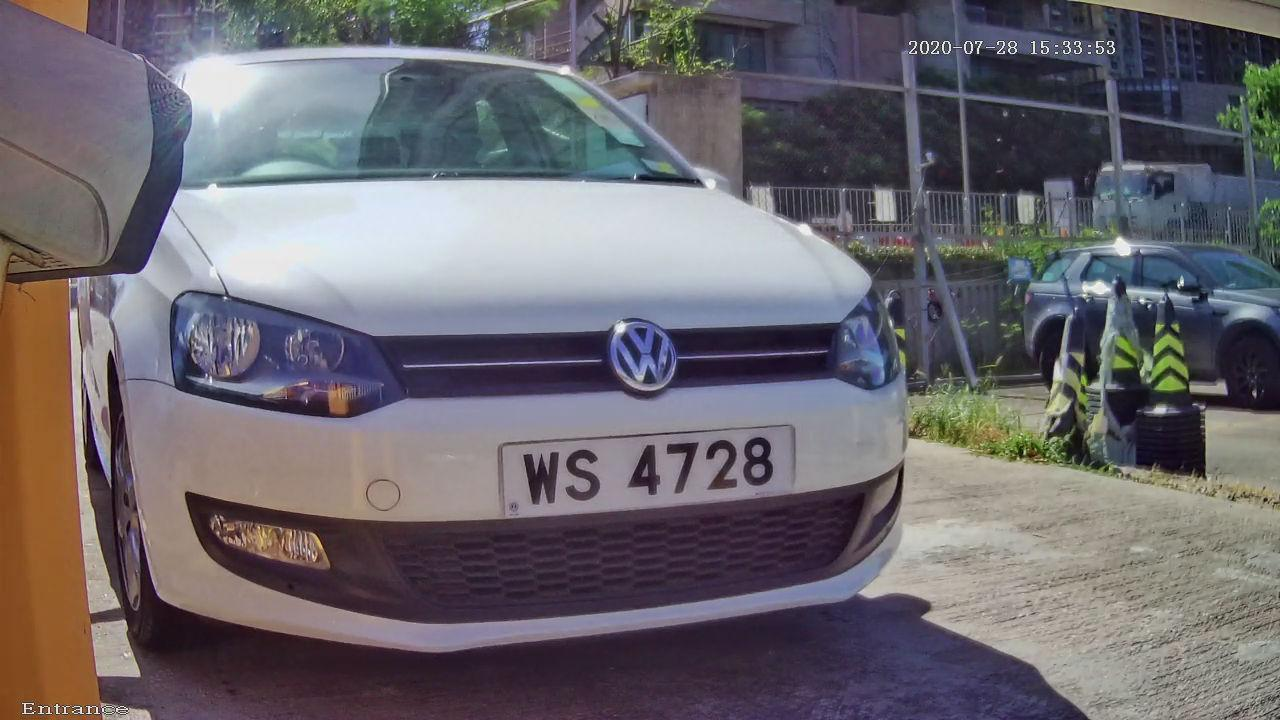privatecar: (63, 26, 1001, 695)
